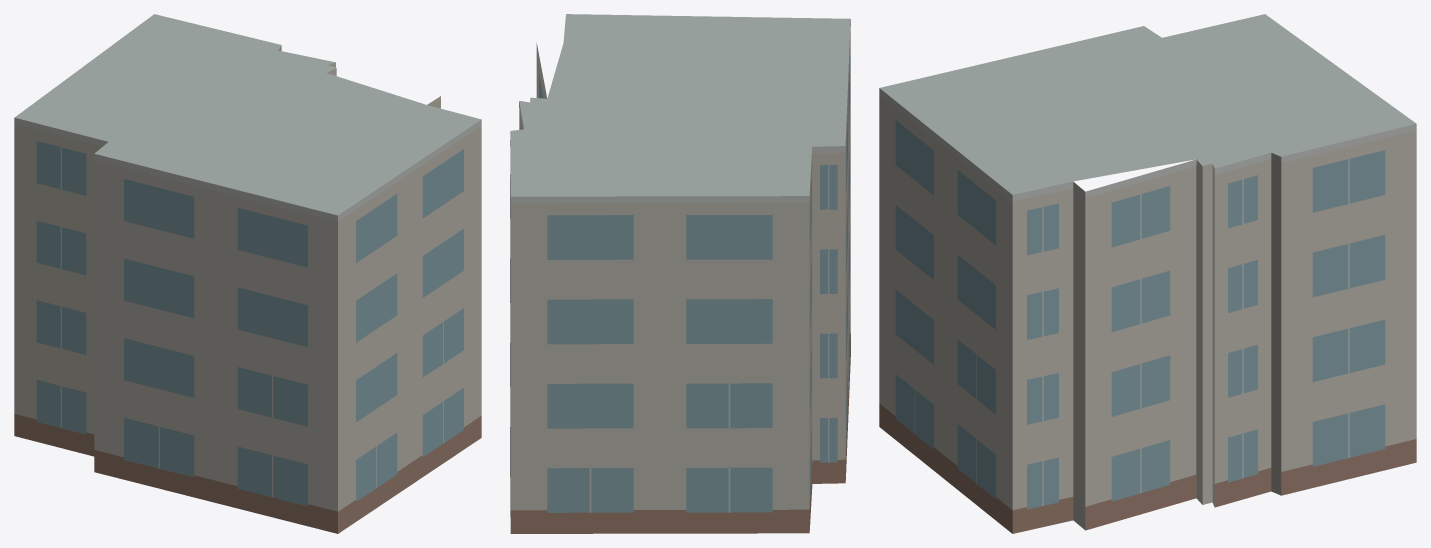
Rendered from survey-upis-33047268.glb.
3 renders of one model, left to right at view 1: azimuth 30°, elevation 25°; view 2: azimuth 150°, elevation 25°; view 3: azimuth 270°, elevation 25°, orthographic. The views are drawn at different scales.
Parts seen in each view (by area): view 1: survey-upis-33047268.tmp; view 2: survey-upis-33047268.tmp; view 3: survey-upis-33047268.tmp.
Boxes of the visible parts, bbox=[...] form: survey-upis-33047268.tmp: bbox=[14, 14, 481, 533]; survey-upis-33047268.tmp: bbox=[510, 14, 850, 533]; survey-upis-33047268.tmp: bbox=[879, 14, 1416, 533].
Size of the model in its own units: 14.33 by 12.5 by 17.97.
